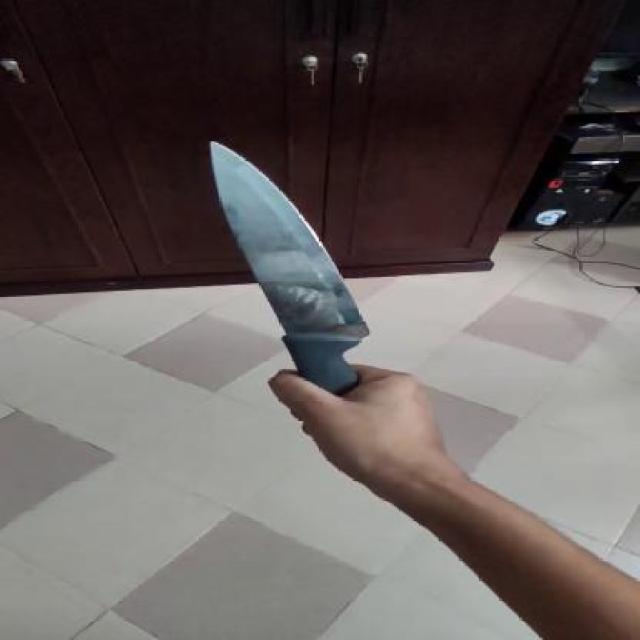knife: (172, 143, 382, 377)
